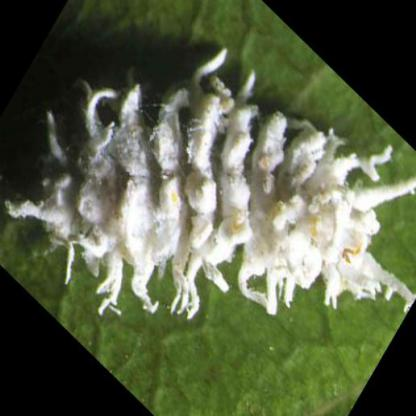mealy bug: (12, 49, 413, 316)
